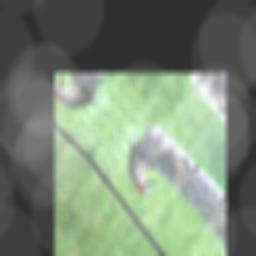Woodpecker: (113, 132, 167, 199)
